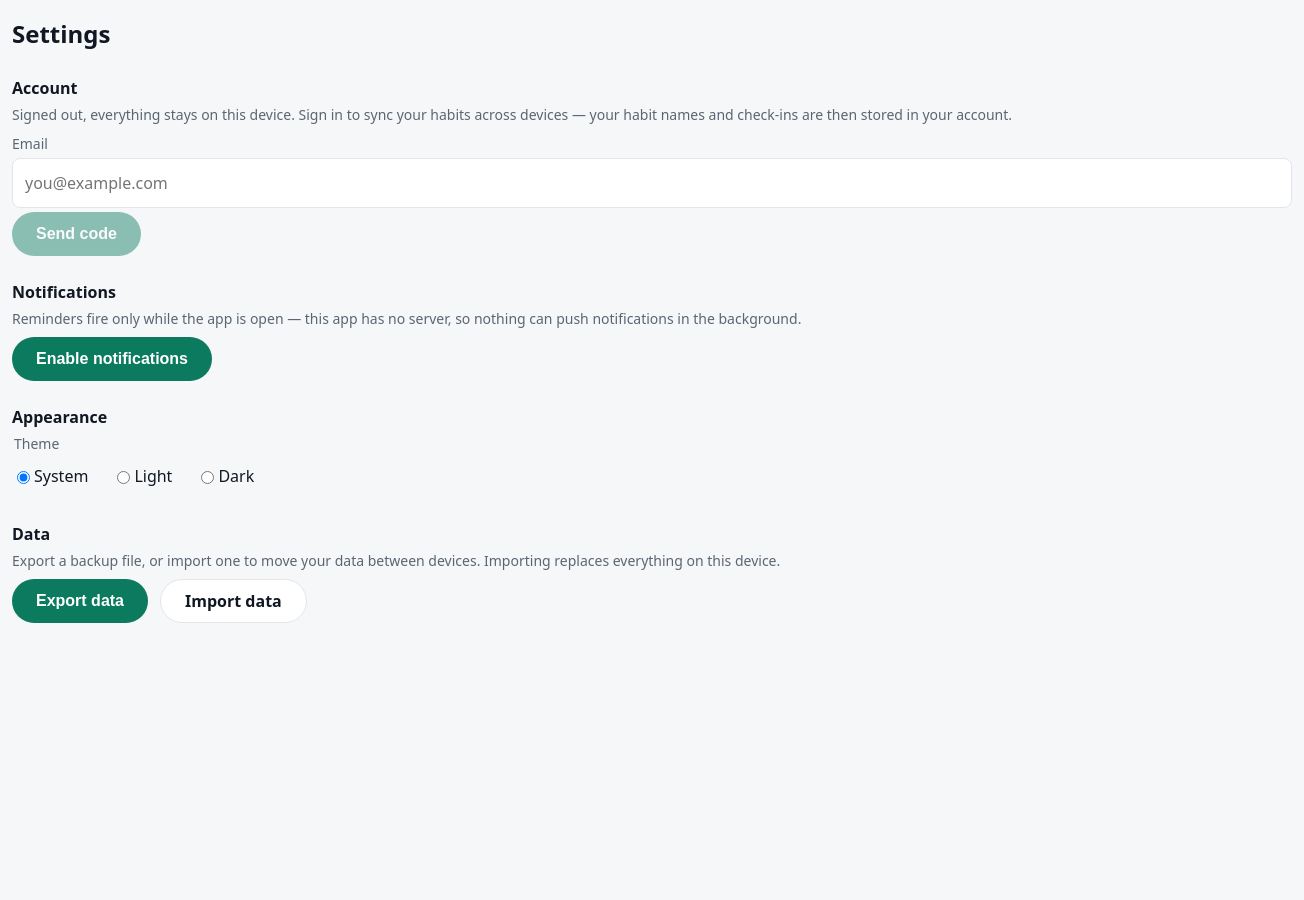
account section, signed out › a rejected sign-in is surfaced, not swallowed
In the field labelled "Email": (652,183) [12,158,1292,208], type "me@example.com"
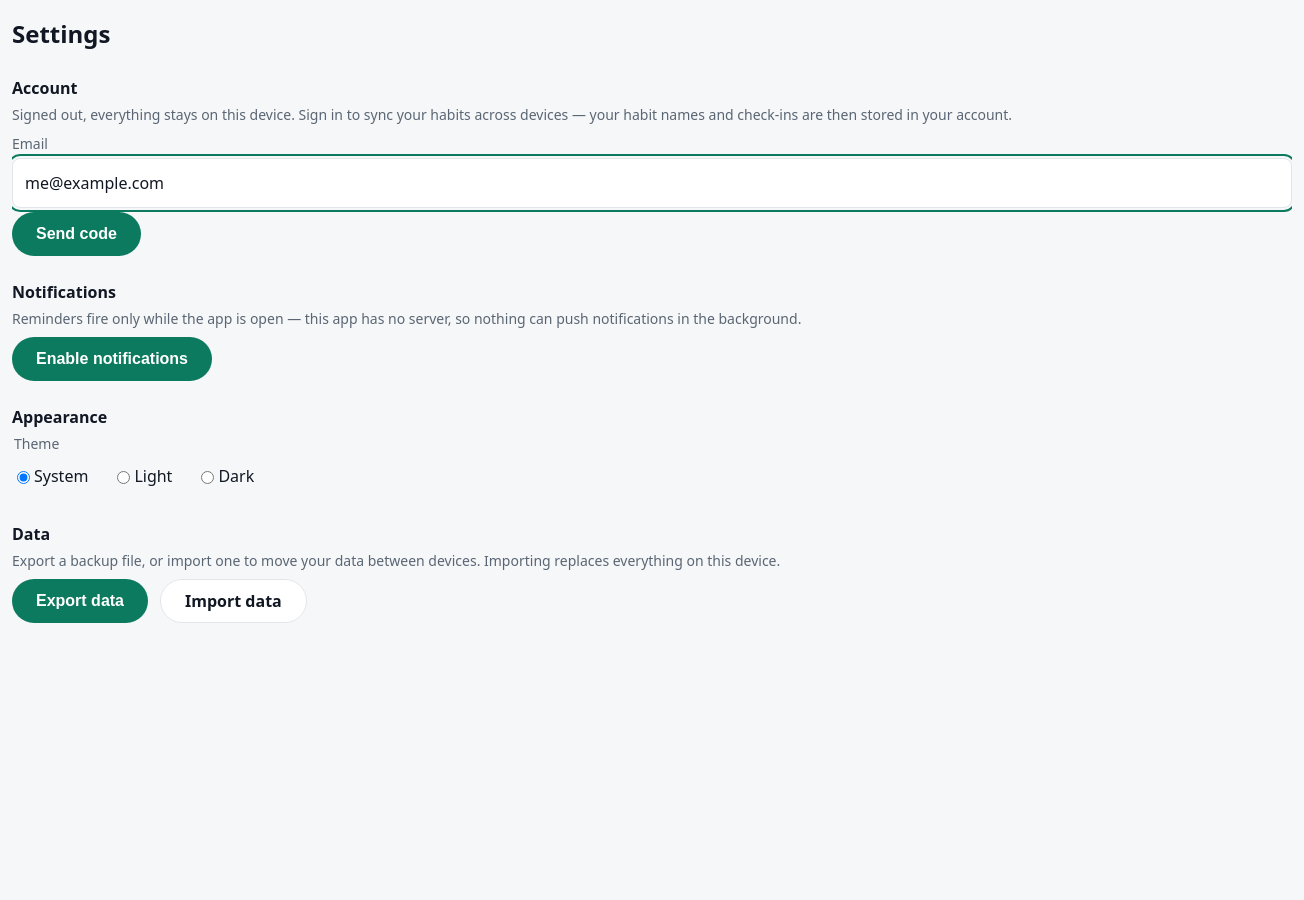
Click the button "Send code": (76,234) [12,212,141,256]
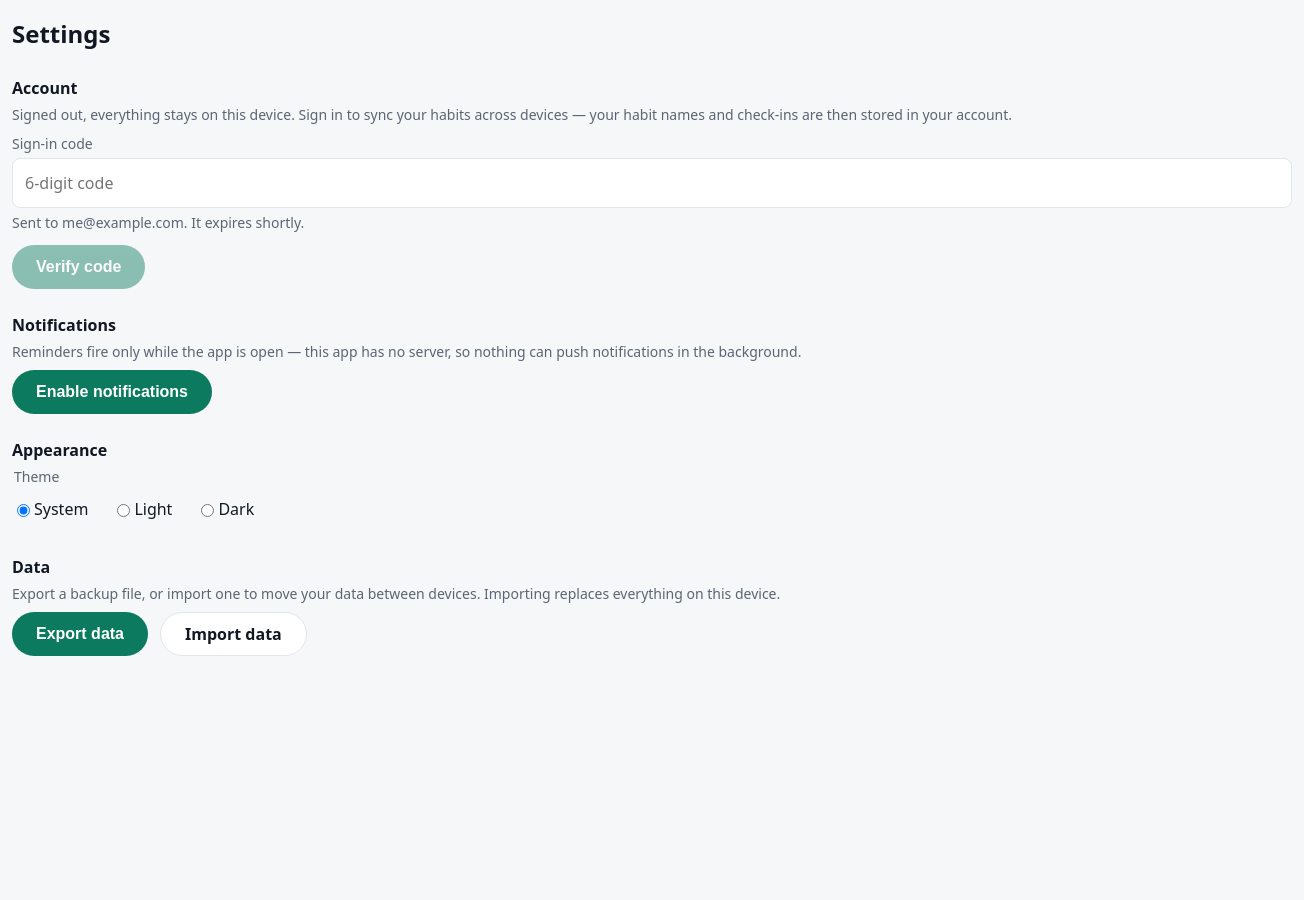
In the field labelled "Sign-in code": (652,183) [12,158,1292,208], type "000000"
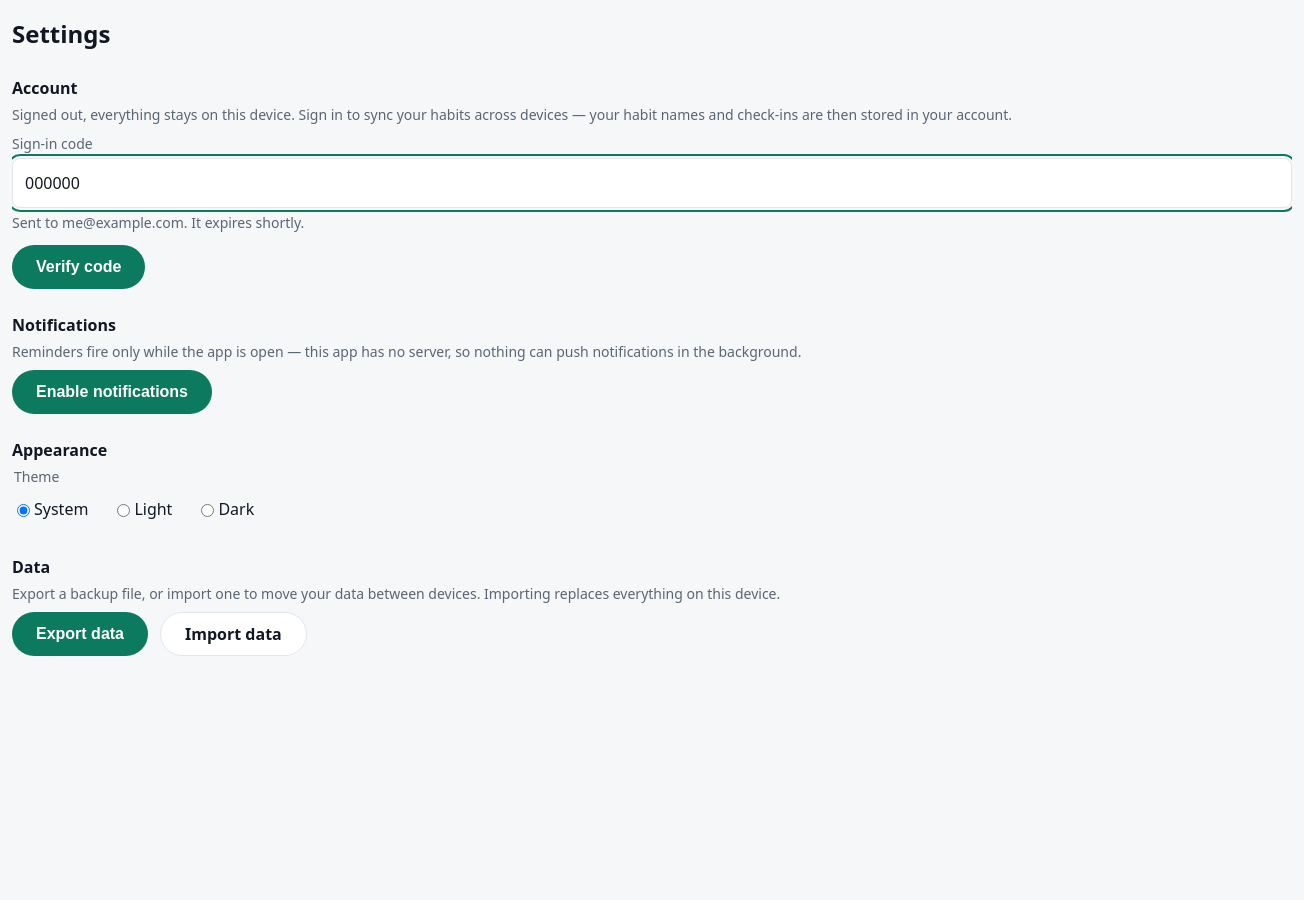
Click the button "Verify code": (79,267) [12,245,145,289]
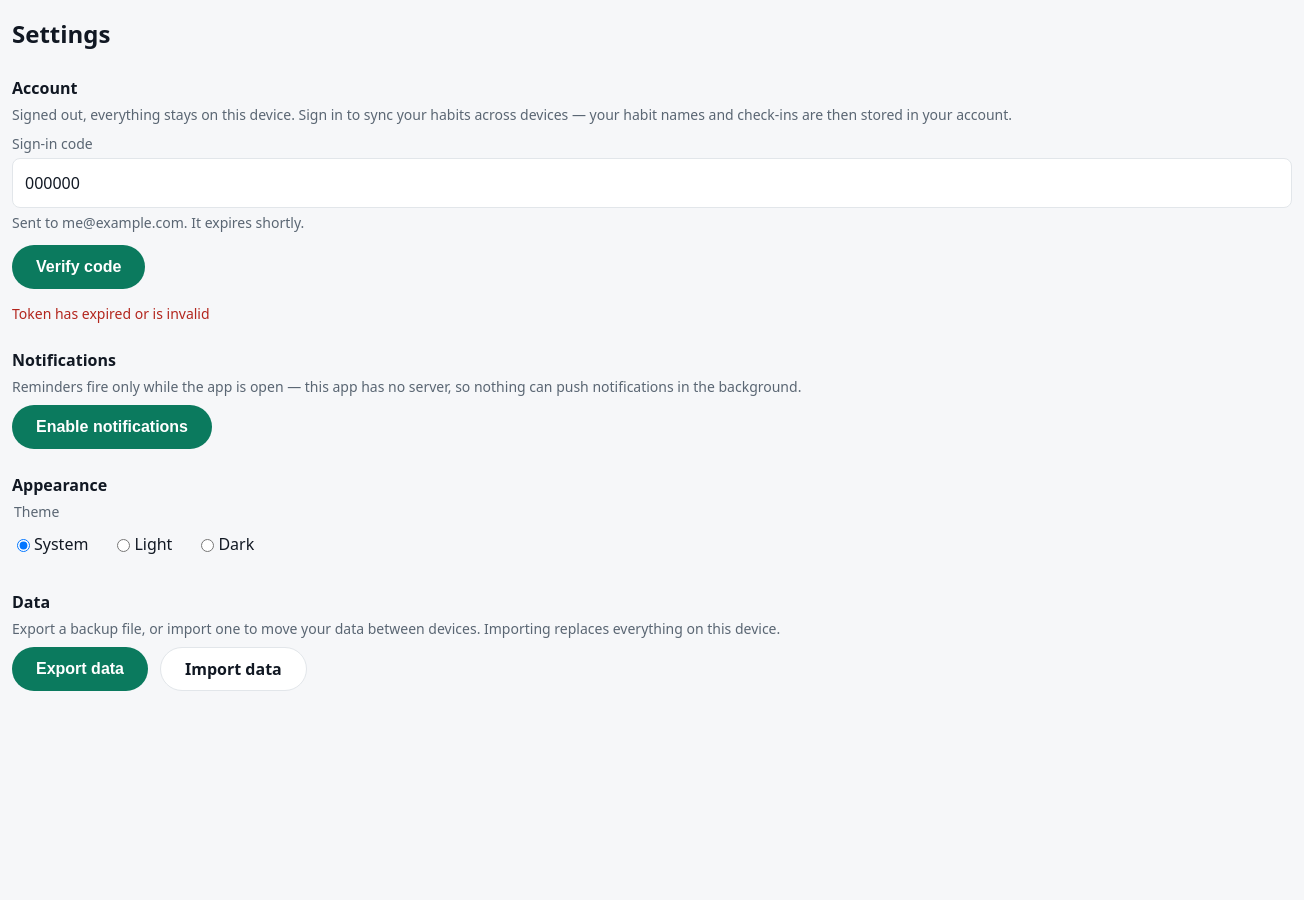
Result: the message shows "expired or is invalid" at [12,304,210,323]
